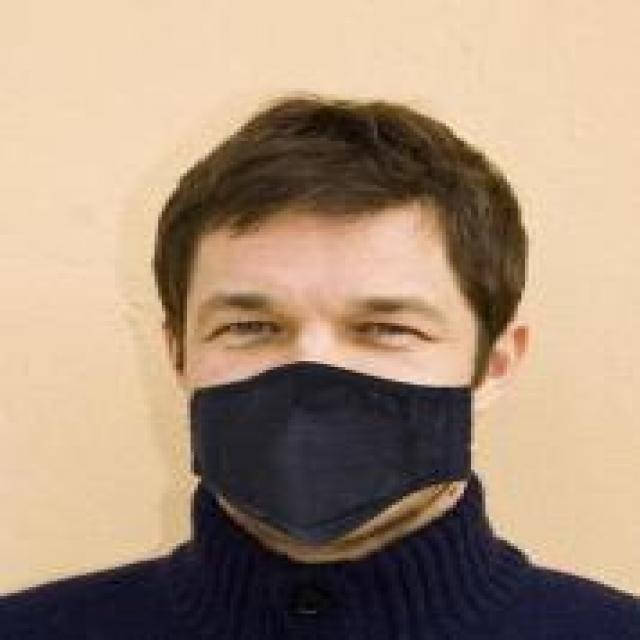mask: (144, 53, 518, 555)
